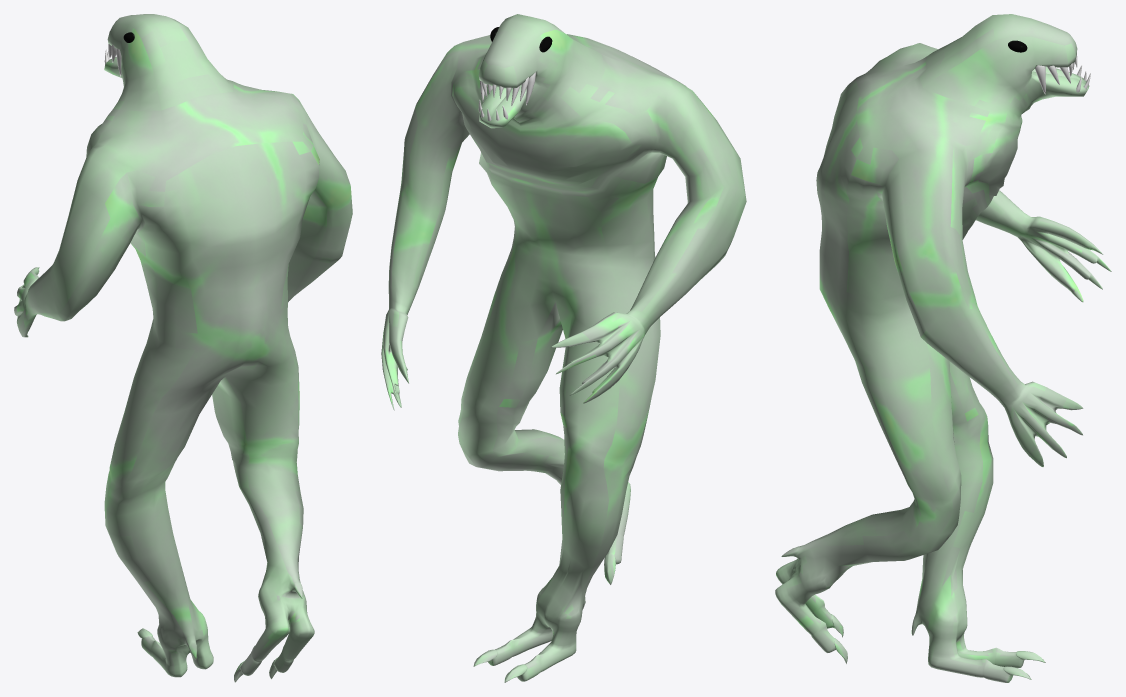
Rendered from Berserkercorrer.0085.obj.
3 views of the same model, side by side, from view 1: azimuth 30°, elevation 25°; view 2: azimuth 150°, elevation 25°; view 3: azimuth 270°, elevation 25° (orthographic). The views are drawn at different scales.
Parts seen in each view (by area): view 1: polySurface27; view 2: polySurface27; view 3: polySurface27.
Part boxes in pixels (bbox=[...]): polySurface27: bbox=[14, 14, 352, 682]; polySurface27: bbox=[381, 14, 746, 682]; polySurface27: bbox=[775, 14, 1111, 682].
Size of the model in its own units: 11.67 by 23.69 by 11.1.
Materials: 1 (1 with a texture image).
